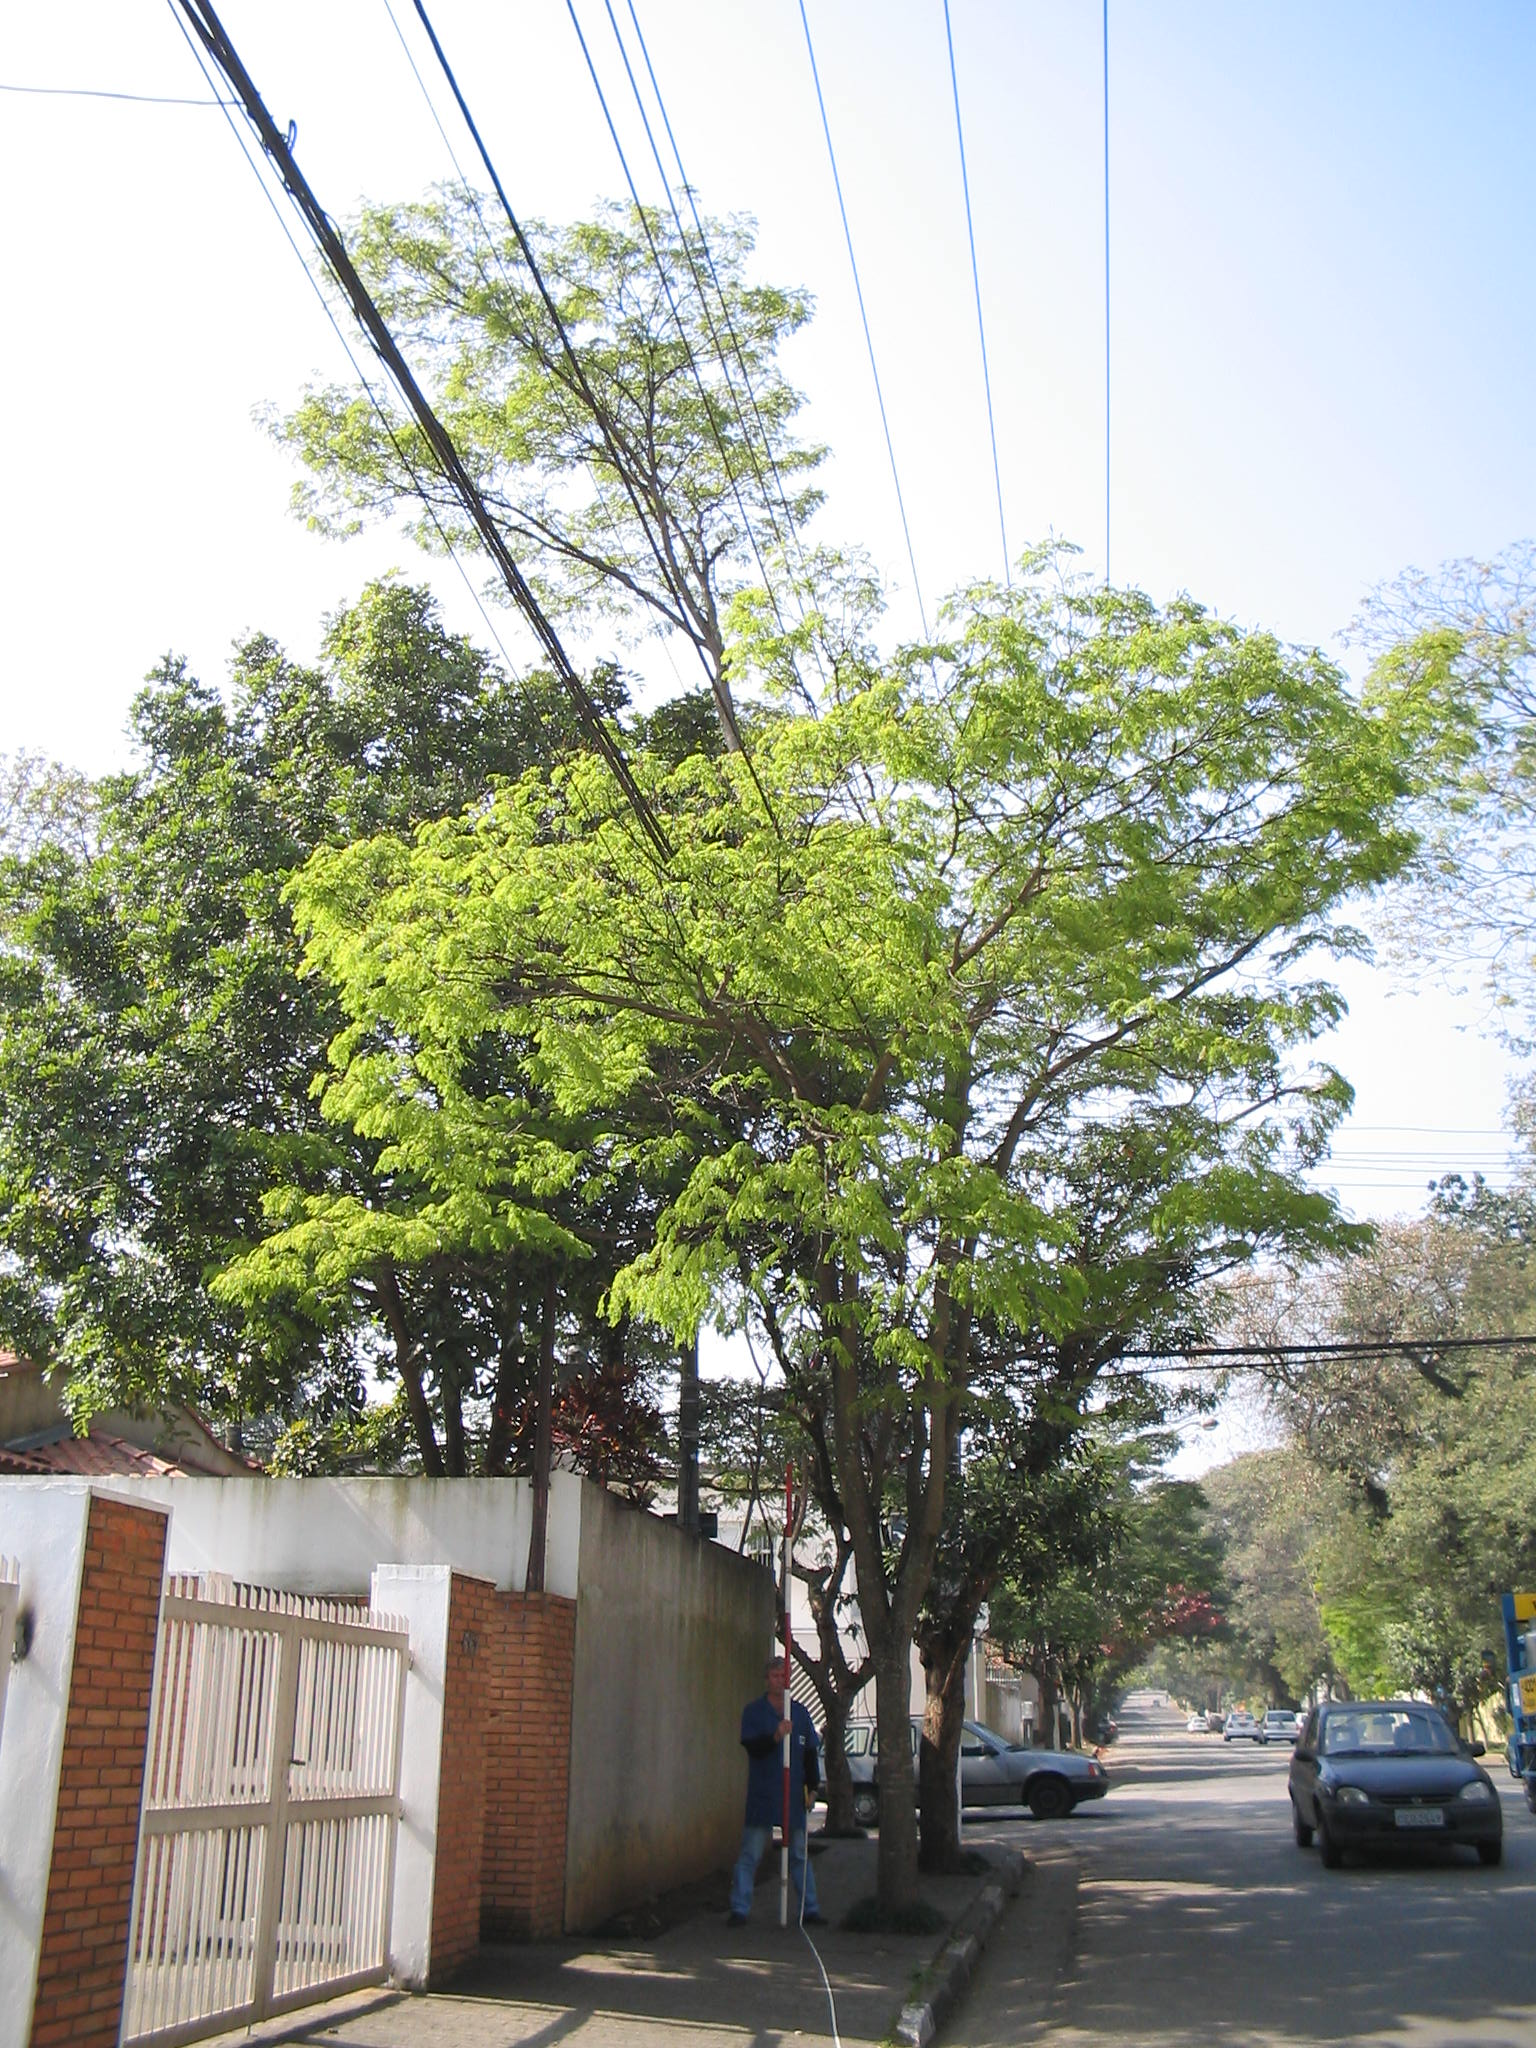crown: (224, 574, 1515, 1434)
stem: (831, 1624, 949, 1929)
stick: (741, 1461, 839, 1929)
tree: (216, 566, 1528, 1934)
